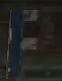Parking: (7, 4, 58, 79)
